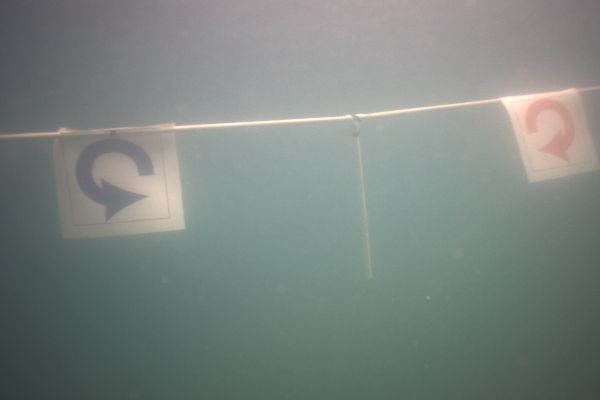gate: (0, 87, 600, 277)
gate_bleue: (52, 126, 186, 238)
gate_rouge: (498, 88, 600, 182)
